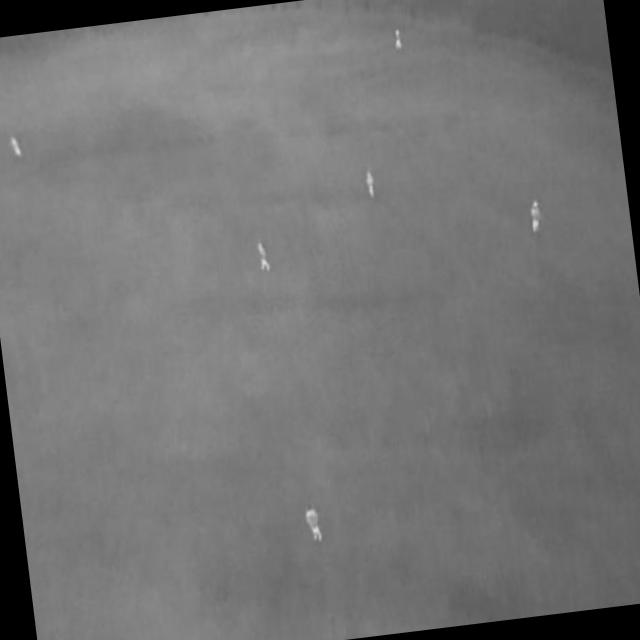person: (304, 505, 323, 545), (529, 199, 544, 235), (255, 239, 270, 274), (364, 170, 378, 201), (10, 134, 24, 158), (392, 28, 404, 51)
